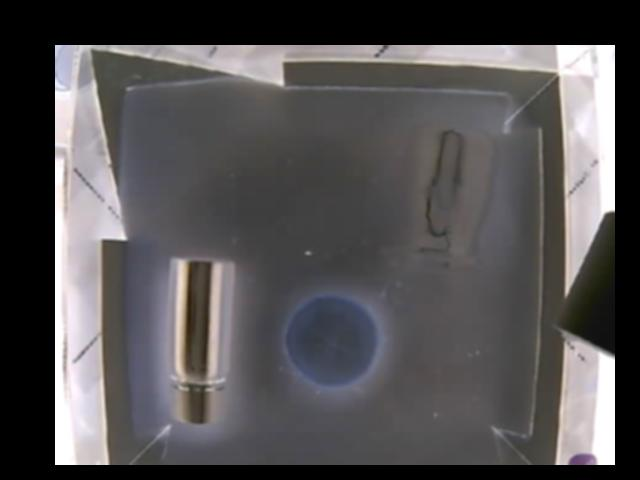Bottle: (409, 128, 500, 266), (167, 257, 233, 423)
Mooli: (279, 298, 381, 389)
